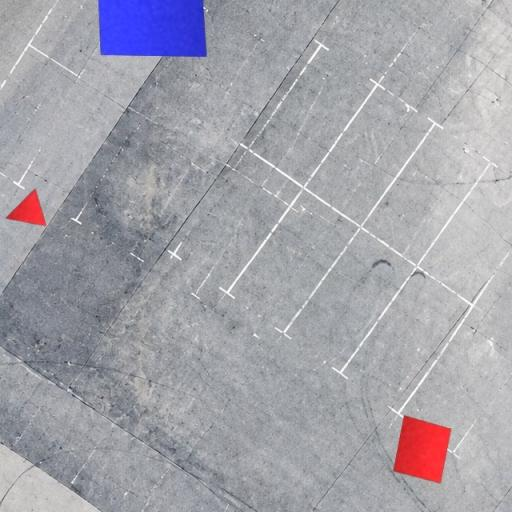BLUE_SQUARE: (96, 0, 208, 58)
RED_SQUARE: (392, 415, 452, 484)
